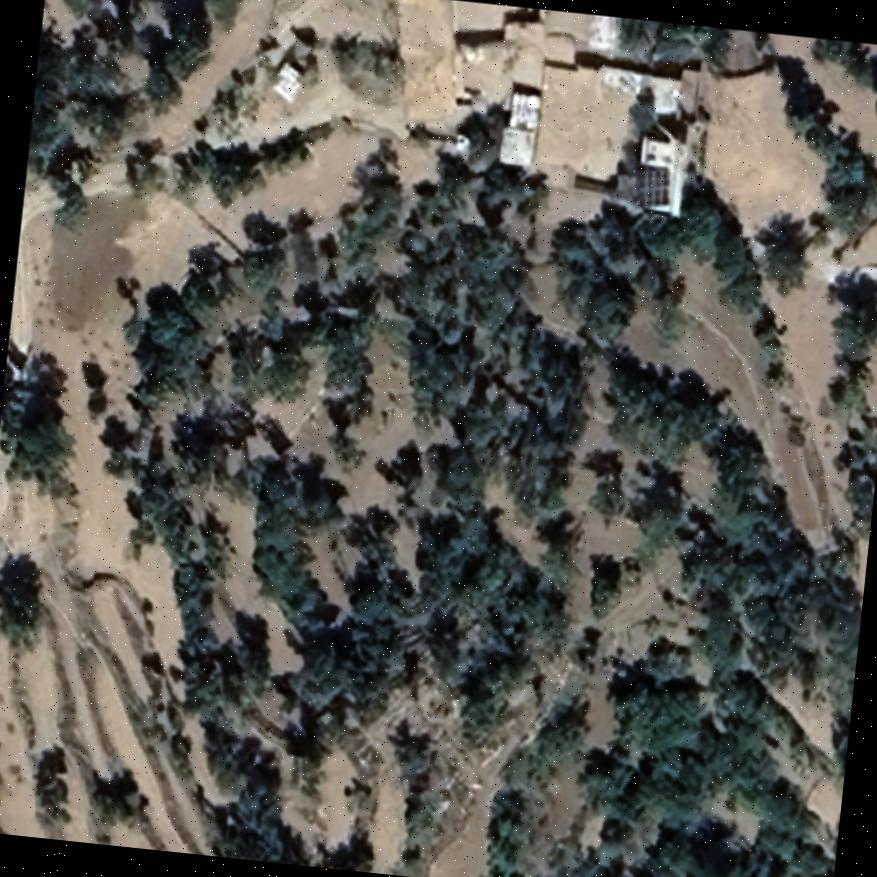Solarpanel: (638, 165, 669, 207)
